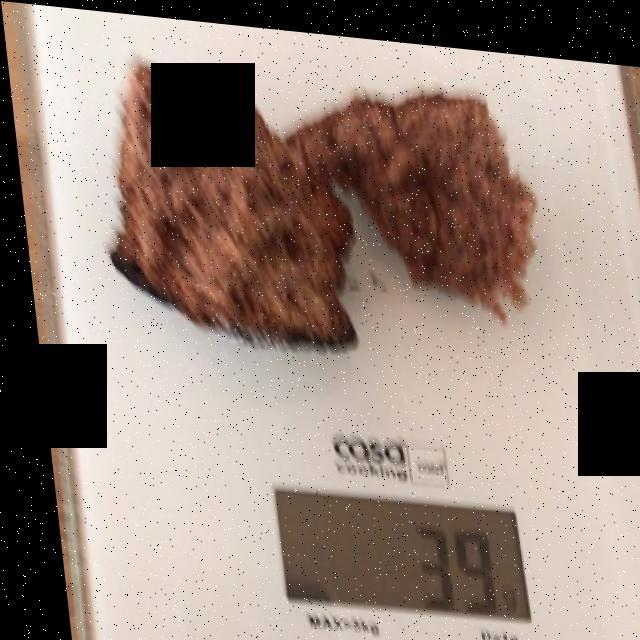cake: (108, 64, 527, 335)
